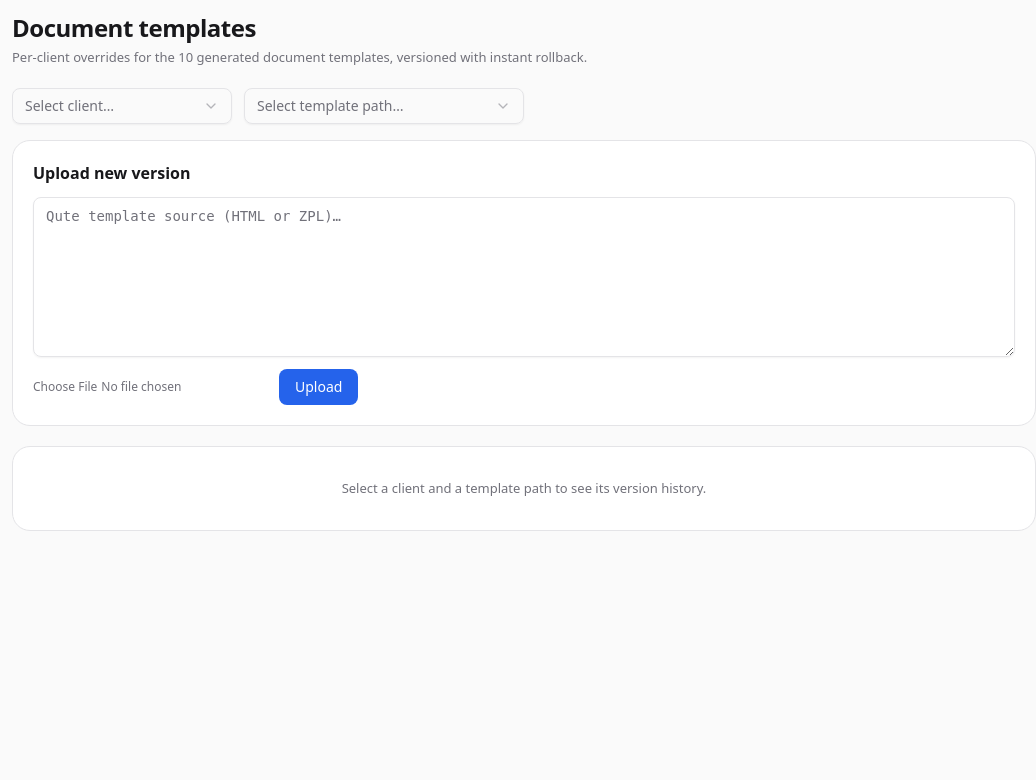
AdminTemplatesPage › fetches versions once both a client and a template path are selected
This screenshot has width=1036, height=780.
Step 1. Click the dropdown with test id "template-client-select" → (122, 106), box [12, 88, 232, 124]
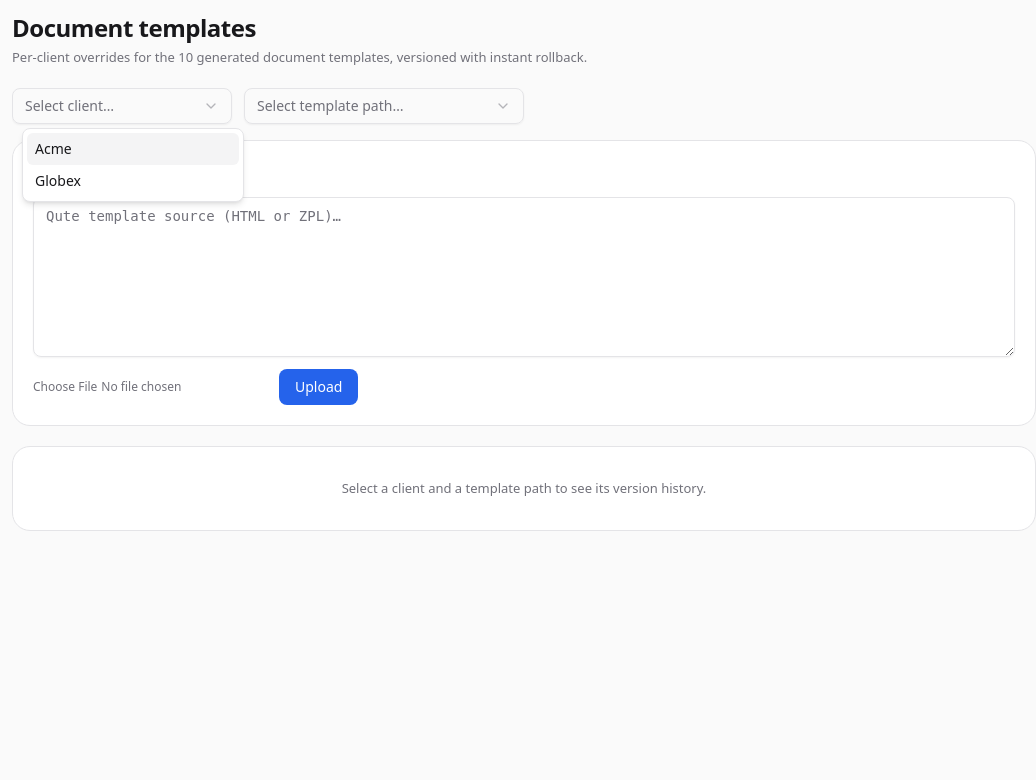
Step 2. Click the option "Acme" → (133, 149), box [27, 133, 239, 165]
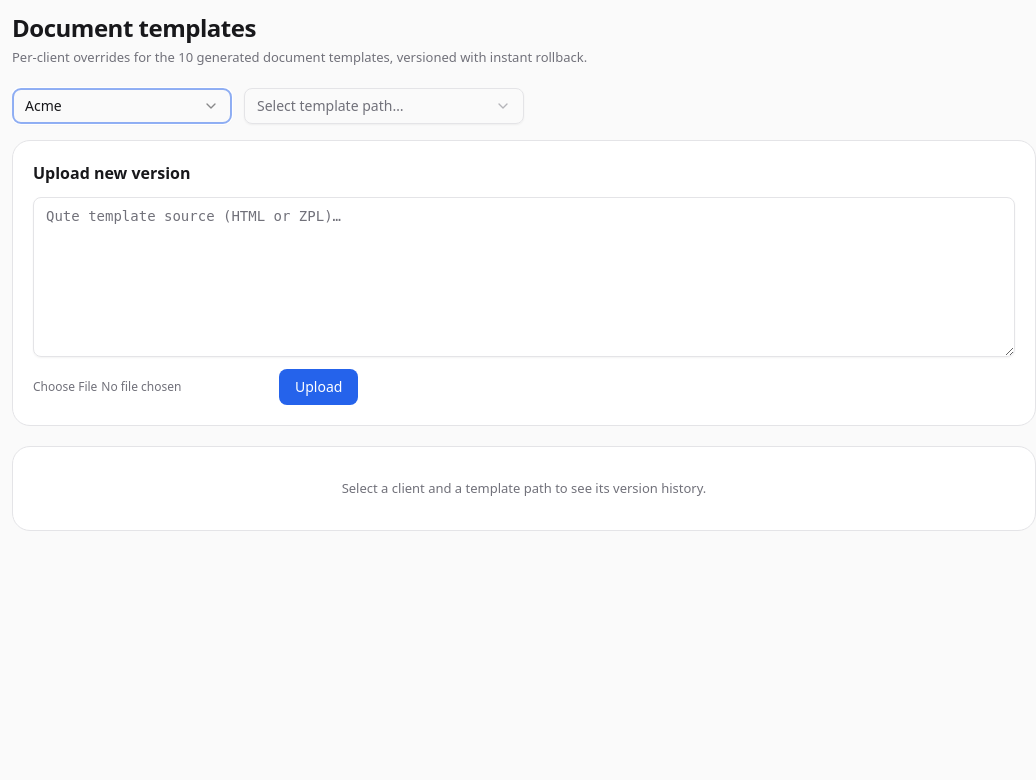
Step 3. Click the dropdown with test id "template-path-select" → (384, 106), box [244, 88, 524, 124]
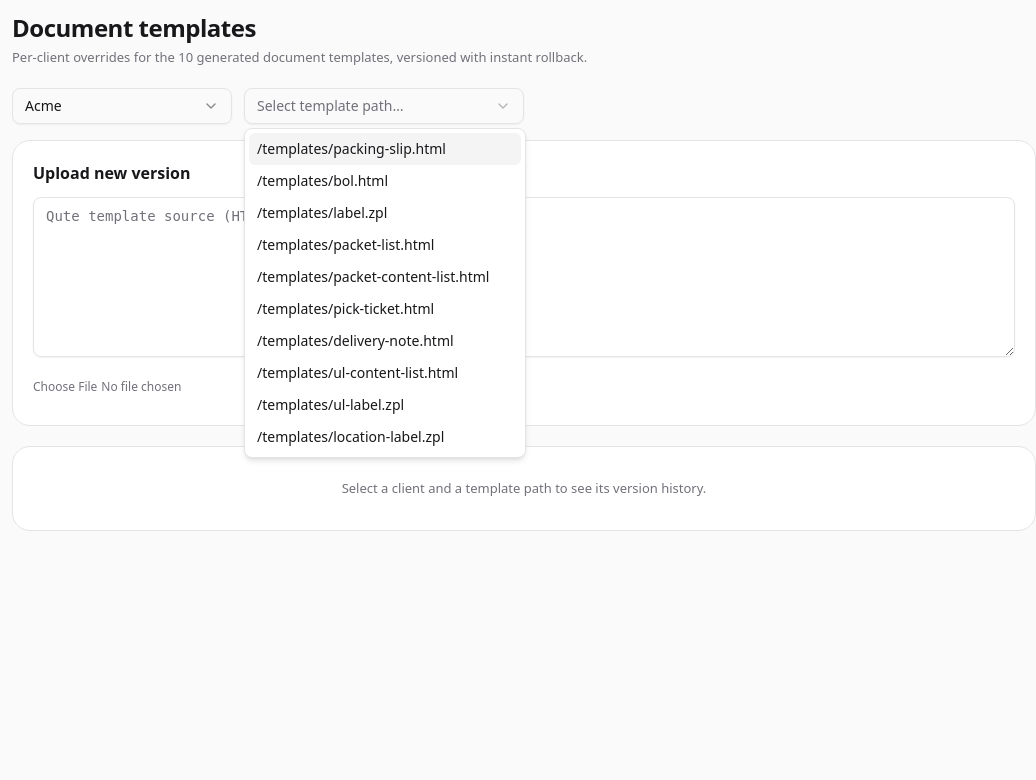
Step 4. Click the option "/templates/delivery-note.html" → (355, 340), box [257, 331, 454, 350]
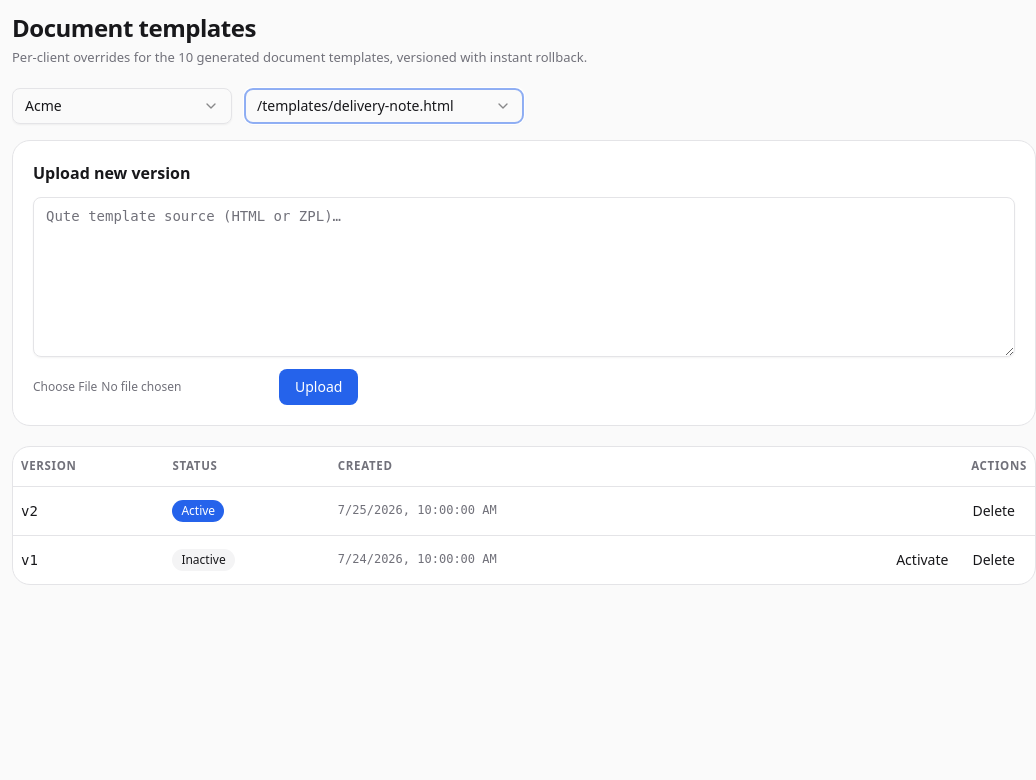
expect the row with test id "template-version-row-10" is shown: met, box [13, 486, 1035, 536]
expect the row with test id "template-version-row-9" is shown: met, box [13, 536, 1035, 584]
